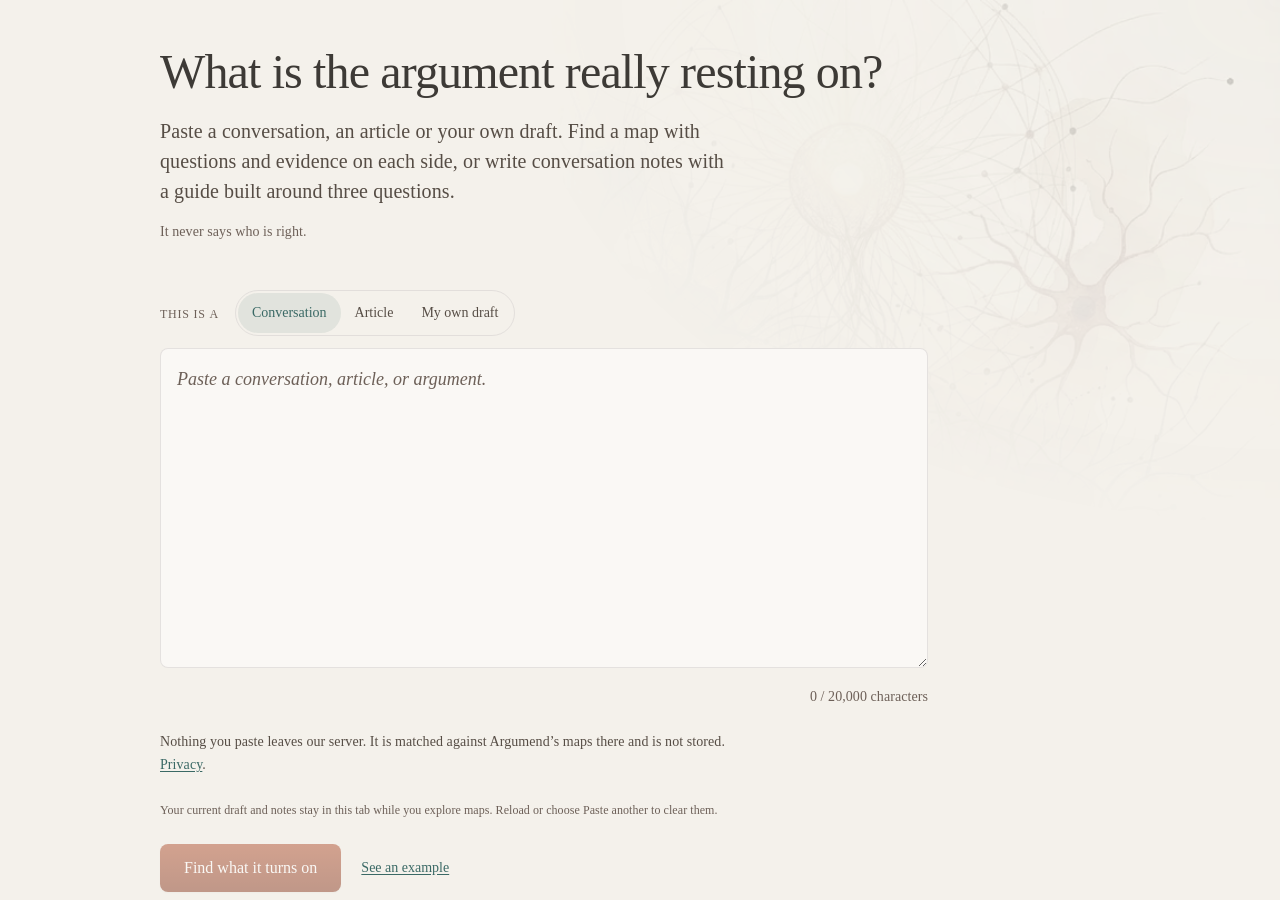
PasteClient with every lane off (production today) › shows the map, its crux and the next step, and asks only the map lane
Click the button "See an example".
click(405, 868)  # box x1=361 y1=846 x2=449 y2=890
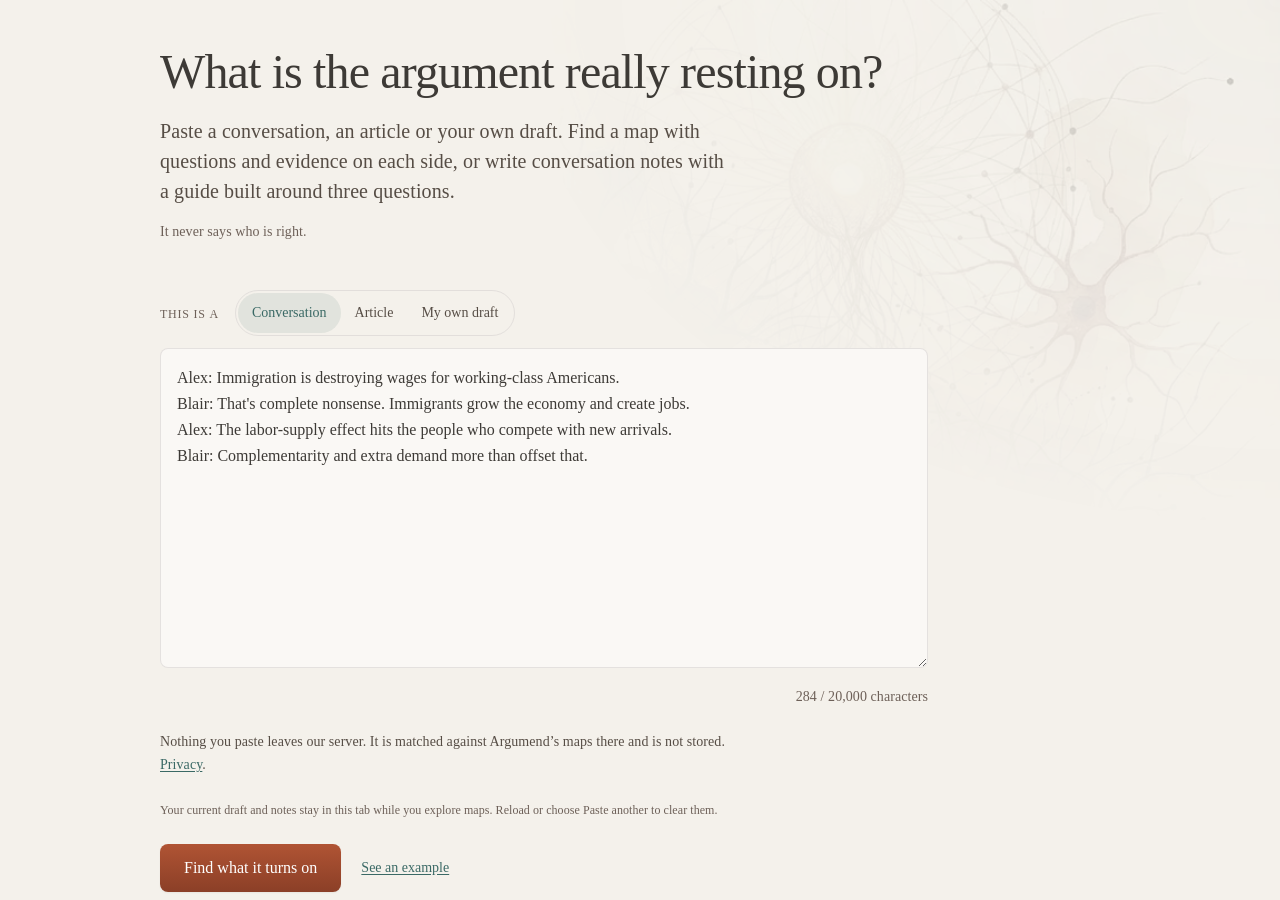
Click the button "Find what it turns on".
click(251, 868)  # box x1=160 y1=844 x2=341 y2=892
(page scrolled)
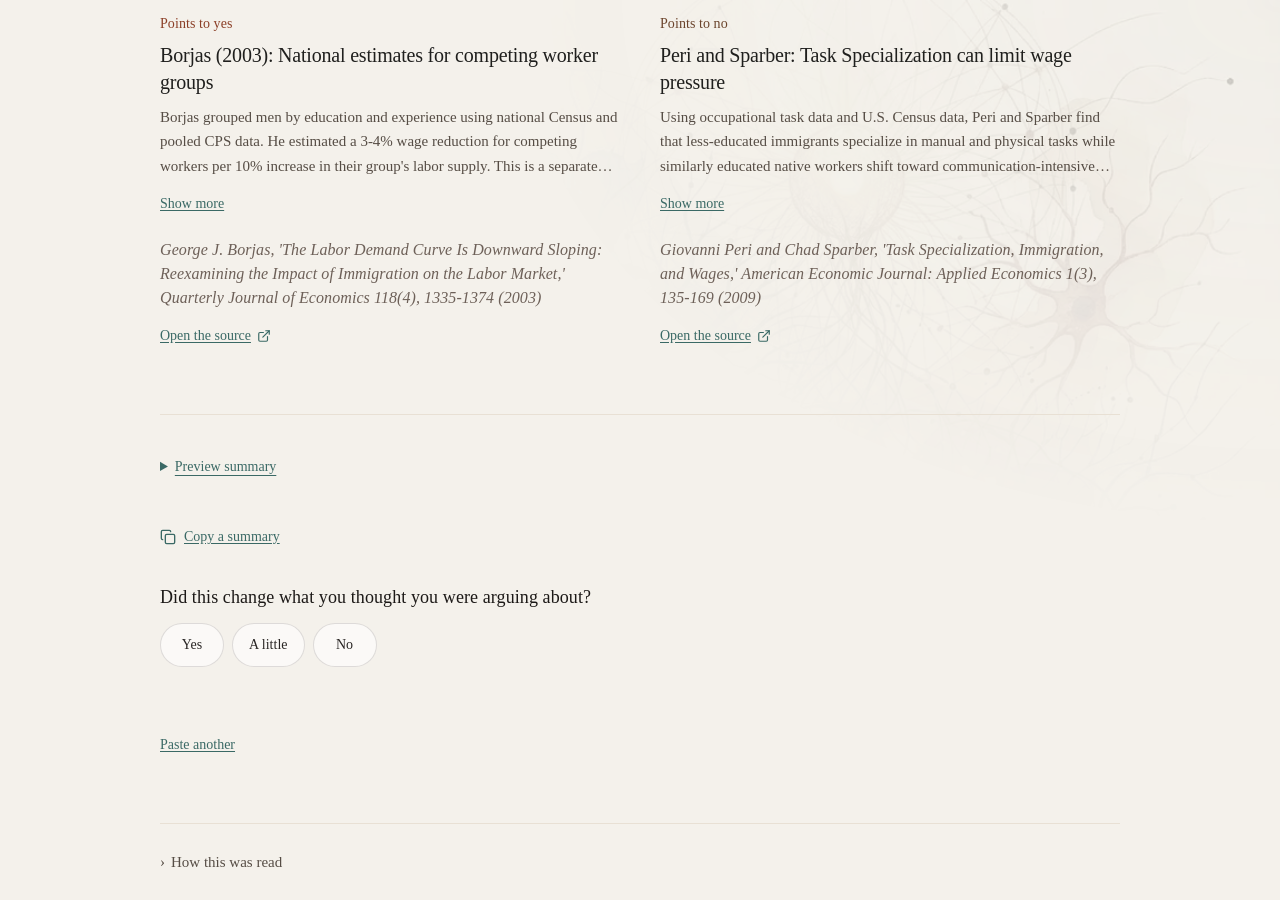
expect the text "Points to yes" is shown: met, box x1=160 y1=16 x2=232 y2=31
expect the text "Points to no" is shown: met, box x1=660 y1=16 x2=728 y2=31
expect the button "Copy a summary" is shown: met, box x1=160 y1=515 x2=280 y2=559
